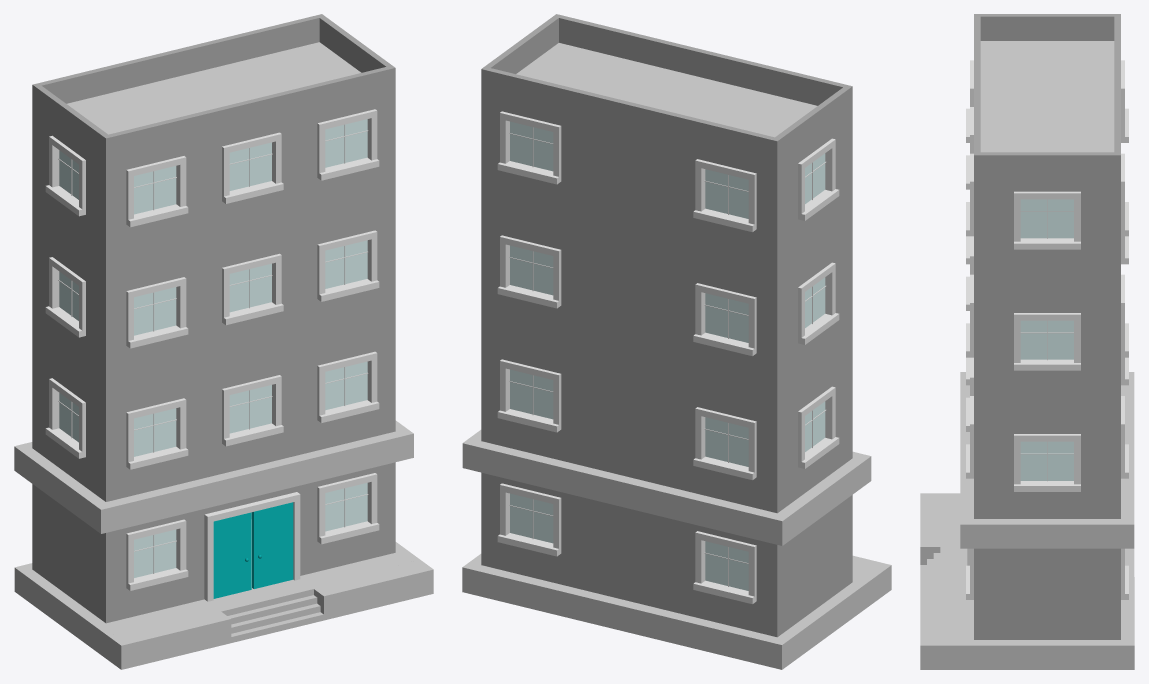
Rendered from build_1.fbx.
The picture shows the model from 3 angles, left to right: view 1: azimuth 30°, elevation 25°; view 2: azimuth 150°, elevation 25°; view 3: azimuth 270°, elevation 25°; orthographic projection. The views are drawn at different scales.
Visible parts, largest first — view 1: BUILD_1; view 2: BUILD_1; view 3: BUILD_1.
Boxes of the visible parts, x1,y1,x2,y2 form: BUILD_1: [14, 14, 433, 669]; BUILD_1: [462, 14, 891, 669]; BUILD_1: [920, 14, 1134, 669].
Size of the model in its own units: 10630 by 16535 by 6308.
